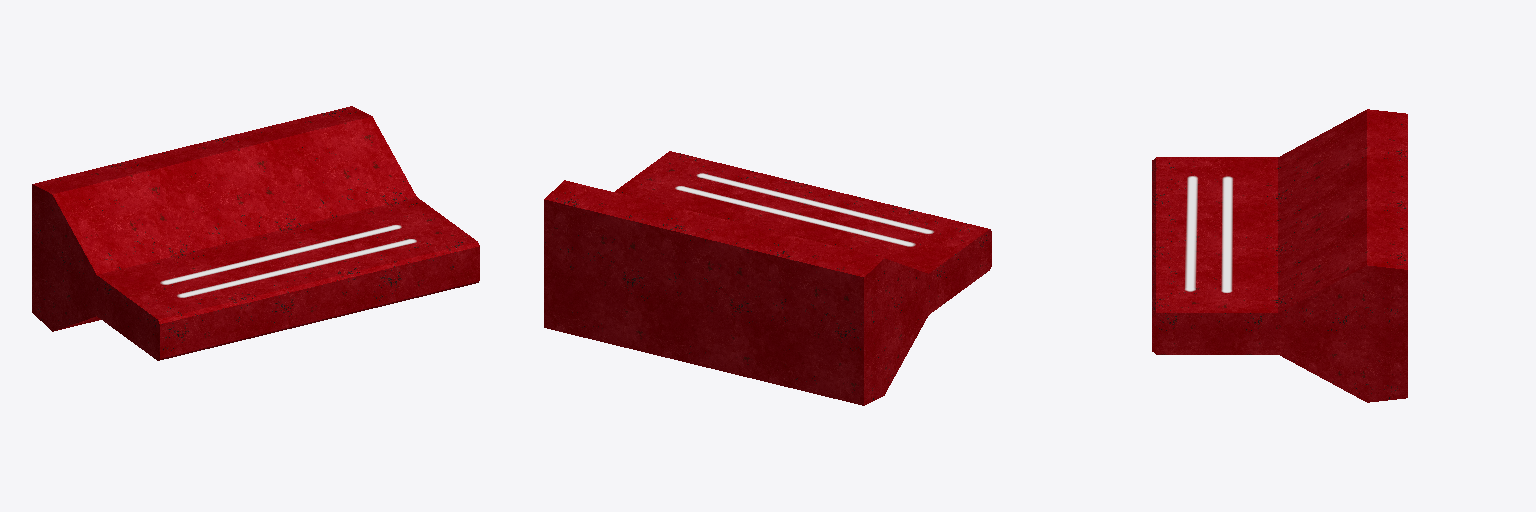
The picture shows the model from 3 angles: view 1: azimuth 30°, elevation 25°; view 2: azimuth 150°, elevation 25°; view 3: azimuth 270°, elevation 25°; orthographic projection.
Size of the model in its own units: 236 by 96.58 by 163.
Materials: 1 (1 with a texture image).